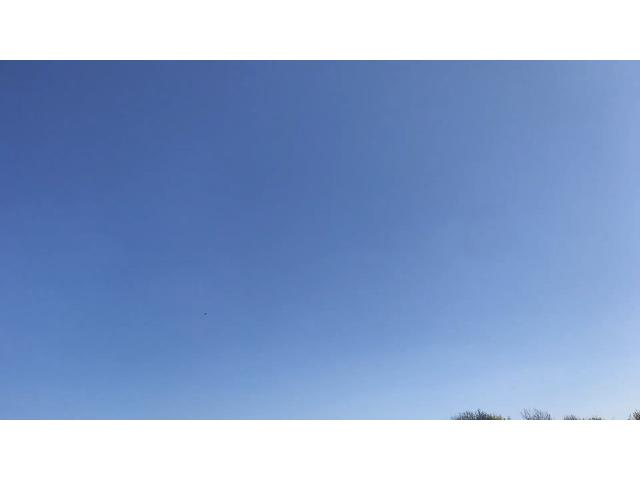Anti-Drone: (198, 307, 214, 317)
